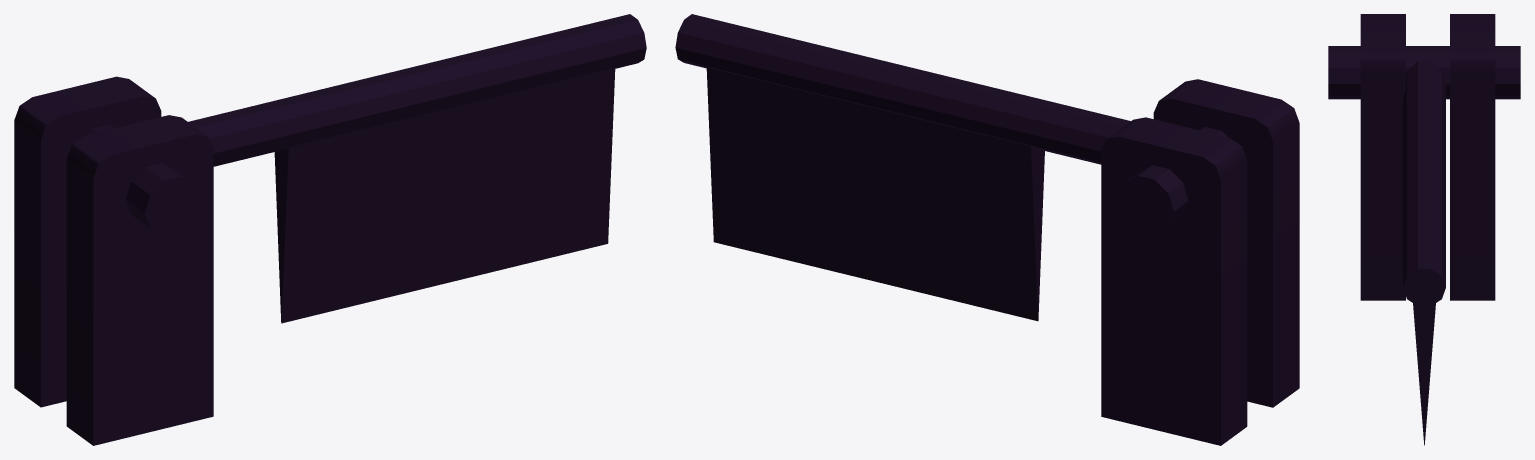
File: balta.obj
The picture shows the model from 3 angles, left to right: view 1: azimuth 30°, elevation 25°; view 2: azimuth 150°, elevation 25°; view 3: azimuth 270°, elevation 25°; orthographic projection. The views are drawn at different scales.
Visible parts, largest first — view 1: pCube3 balta, pCube4 tutma, balta pCylinder2, tutma pCube2, tutma pCylinder1; view 2: pCube3 balta, tutma pCube2, balta pCylinder2, pCube4 tutma, tutma pCylinder1; view 3: tutma pCube2, pCube4 tutma, balta pCylinder2, tutma pCylinder1, pCube3 balta.
Boxes of the visible parts, x1=… form: pCube3 balta: x1=274, y1=68, x2=615, y2=323; pCube4 tutma: x1=66, y1=115, x2=213, y2=445; balta pCylinder2: x1=188, y1=14, x2=646, y2=166; tutma pCube2: x1=14, y1=76, x2=161, y2=407; tutma pCylinder1: x1=87, y1=124, x2=199, y2=235; pCube3 balta: x1=706, y1=67, x2=1044, y2=321; tutma pCube2: x1=1101, y1=117, x2=1247, y2=445; balta pCylinder2: x1=675, y1=14, x2=1130, y2=164; pCube4 tutma: x1=1153, y1=79, x2=1299, y2=407; tutma pCylinder1: x1=1119, y1=127, x2=1227, y2=234; tutma pCube2: x1=1450, y1=14, x2=1495, y2=300; pCube4 tutma: x1=1360, y1=14, x2=1405, y2=300; balta pCylinder2: x1=1403, y1=60, x2=1445, y2=306; tutma pCylinder1: x1=1328, y1=46, x2=1520, y2=99; pCube3 balta: x1=1413, y1=303, x2=1435, y2=445.
Size of the model in its own units: 6.31 by 2.99 by 2.13.
